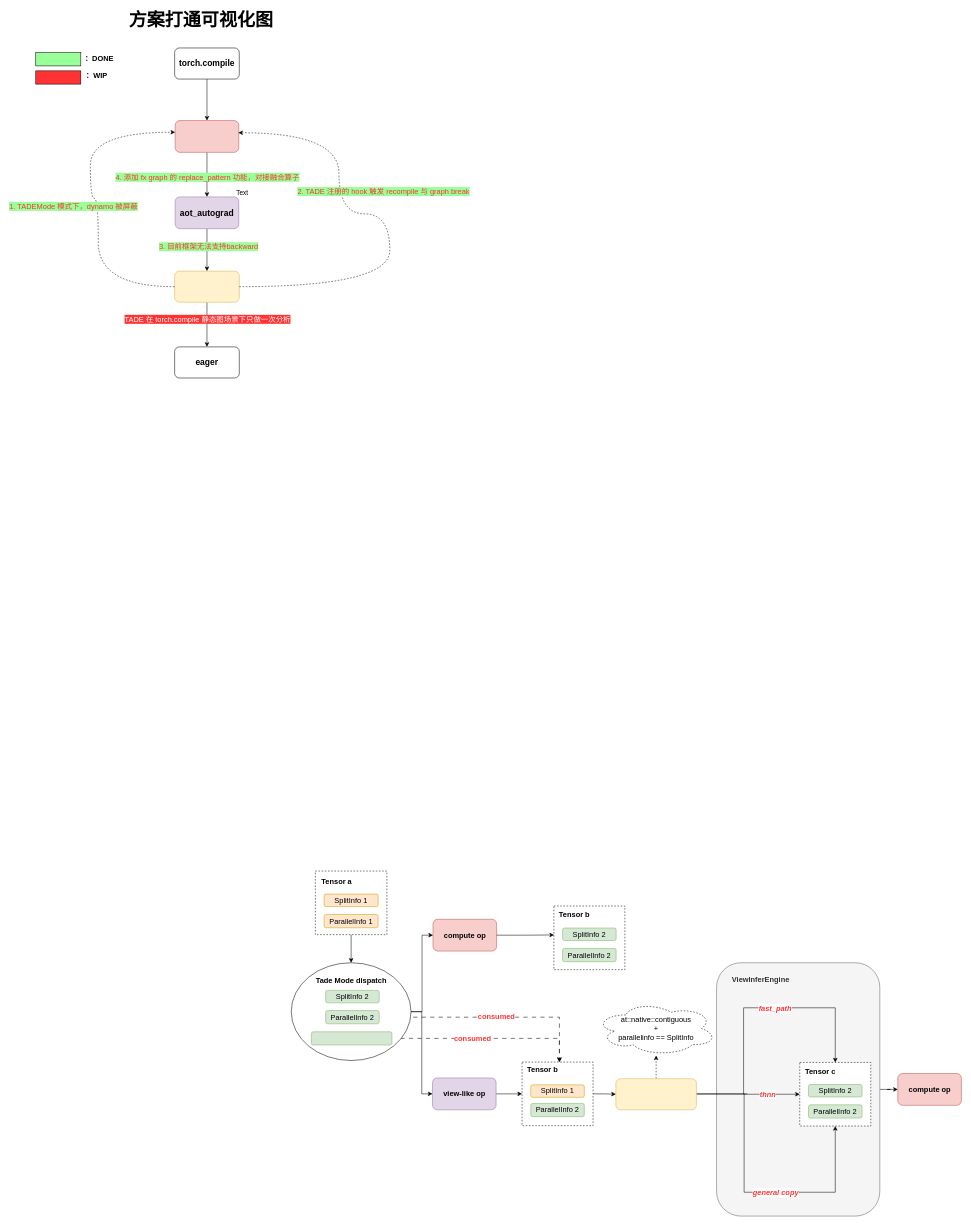
This 971x1225 diagram has some shape labels left out. Each missing label, with the centre of its shape:
"dynamo" belongs at point 207,136.
"is_thrive_contiguous" belongs at point 655,1094.
"MeshAllocInfosManager" belongs at point 351,1038.
"TADE" belongs at point 206,286.
